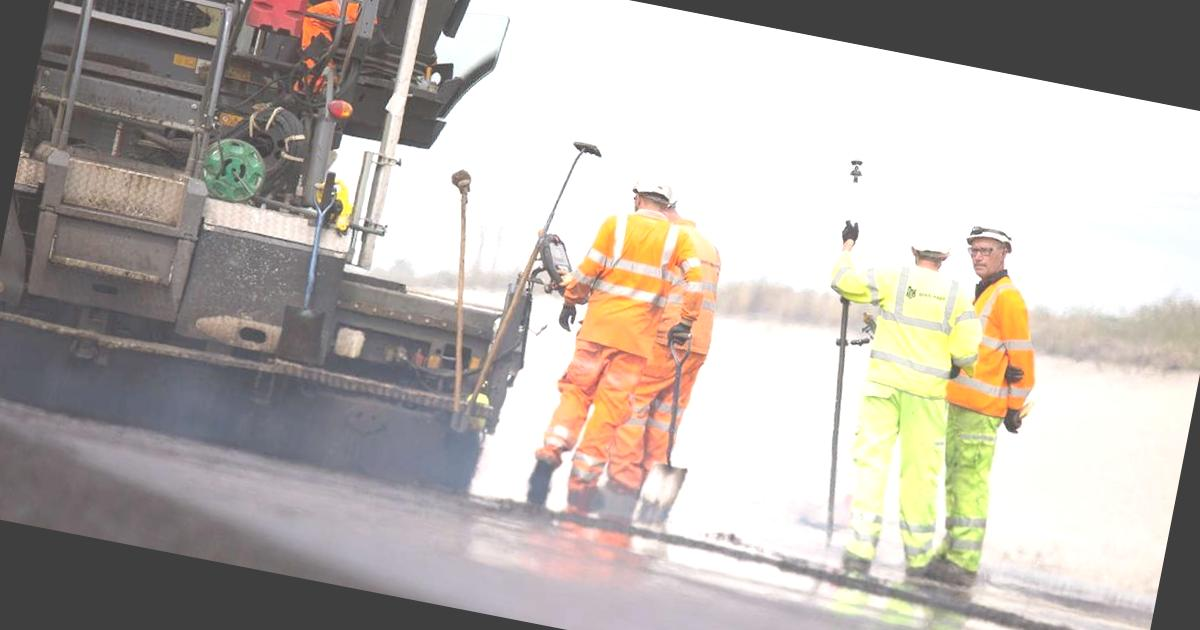helmet: (962, 208, 1028, 269), (624, 154, 690, 212), (903, 212, 964, 266)
person: (512, 152, 720, 538), (807, 206, 993, 588), (898, 207, 1060, 596)
